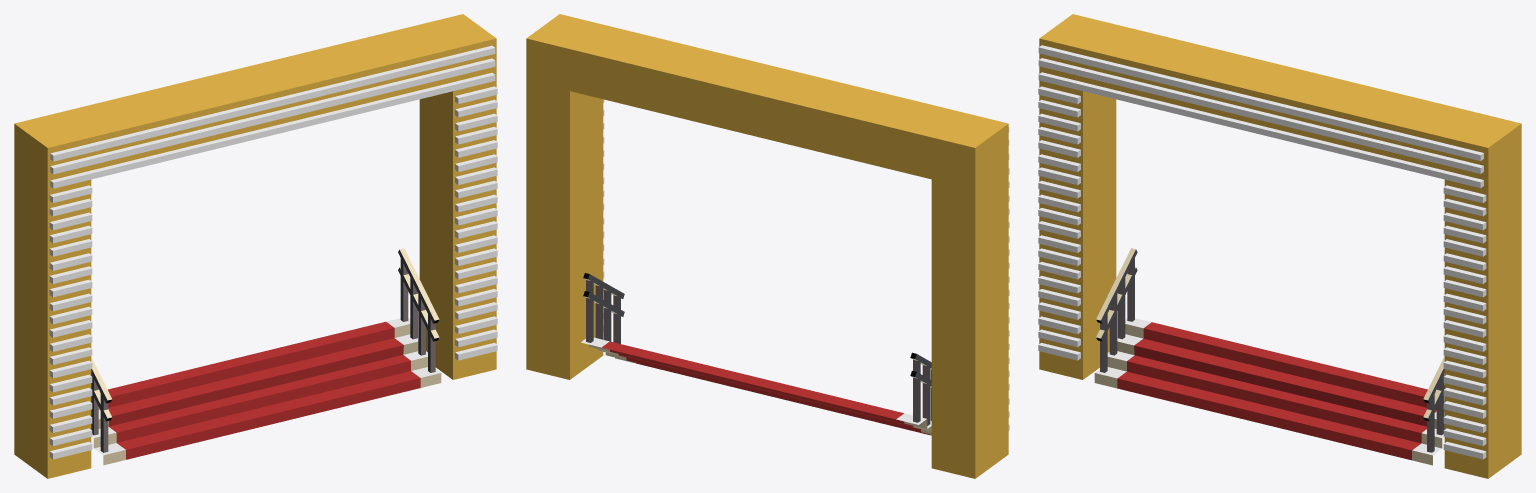
Rendered from SM_Stairs.FBX.
3 renders of one model, left to right at view 1: azimuth 30°, elevation 25°; view 2: azimuth 150°, elevation 25°; view 3: azimuth 330°, elevation 25°, orthographic.
Visible parts, largest first — view 1: Box003; view 2: Box003; view 3: Box003.
Part boxes in pixels (bbox=[...]): Box003: bbox=[14, 14, 497, 478]; Box003: bbox=[526, 14, 1009, 478]; Box003: bbox=[1038, 14, 1521, 478].
Bounding box in the file's own units: 35.26 × 24.84 × 5.21.
1 material, 1 textured.
